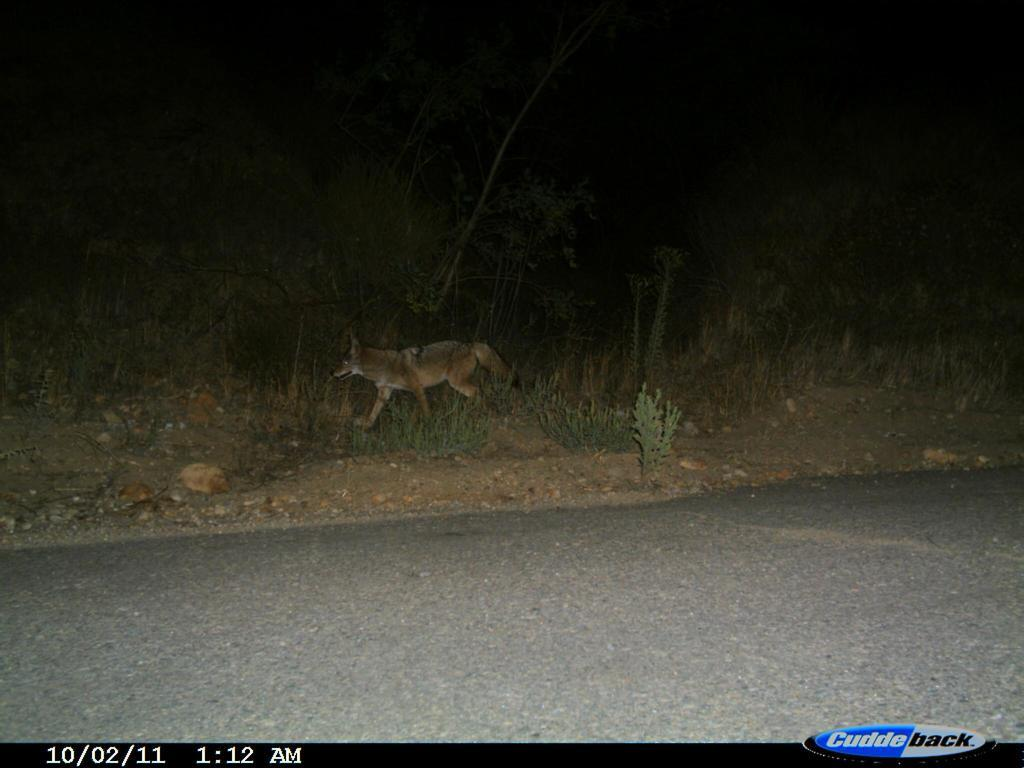coyote: (332, 328, 525, 429)
